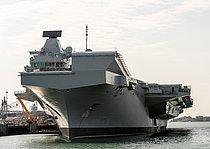MIL_Ship: (11, 22, 195, 141)
